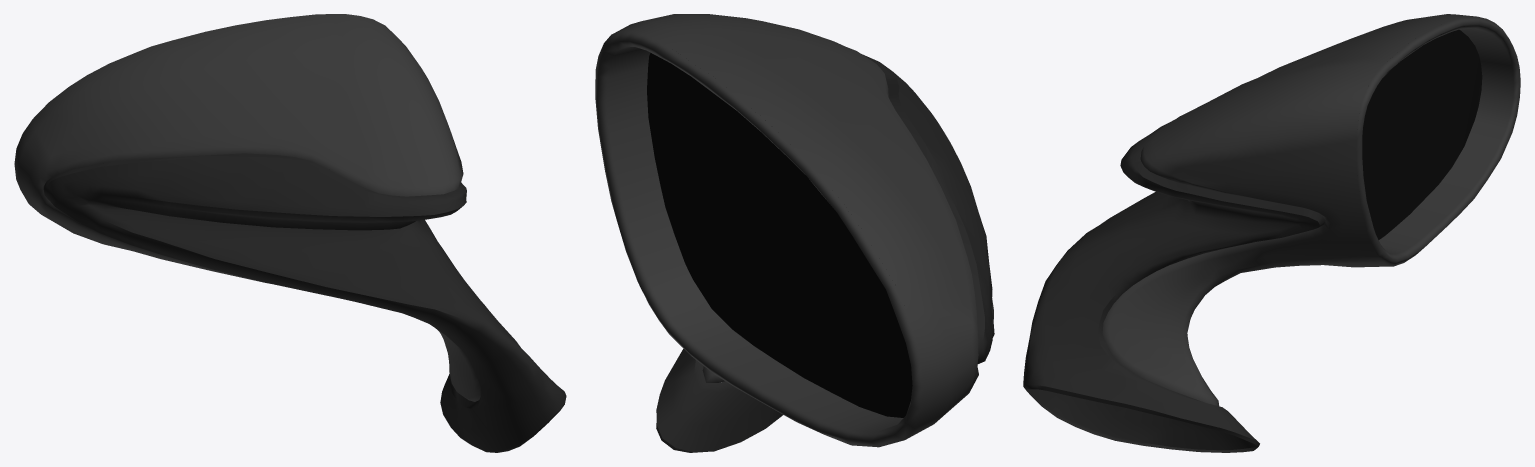
File: sidemirror_r.glb
The picture shows the model from 3 angles, left to right: view 1: azimuth 30°, elevation 25°; view 2: azimuth 150°, elevation 25°; view 3: azimuth 270°, elevation 25°; orthographic projection. The views are drawn at different scales.
Parts seen in each view (by area): view 1: body:Kit0_Paint_Geo_lodABody_lodA_McLaren_Elva_2021Paint_Ma. (×2); view 2: body:Kit0_Paint_Geo_lodABody_lodA_McLaren_Elva_2021Paint_Ma. (×2); view 3: body:Kit0_Paint_Geo_lodABody_lodA_McLaren_Elva_2021Paint_Ma. (×2).
Part boxes in pixels (x1,y1,x2,y2): body:Kit0_Paint_Geo_lodABody_lodA_McLaren_Elva_2021Paint_Ma. (×2): (14,14,566,452); body:Kit0_Paint_Geo_lodABody_lodA_McLaren_Elva_2021Paint_Ma. (×2): (595,14,994,452); body:Kit0_Paint_Geo_lodABody_lodA_McLaren_Elva_2021Paint_Ma. (×2): (1023,14,1520,452).
Bounding box in the file's own units: 0.00208 × 0.00207 × 0.00253.
Materials: 2 (1 with a texture image).
